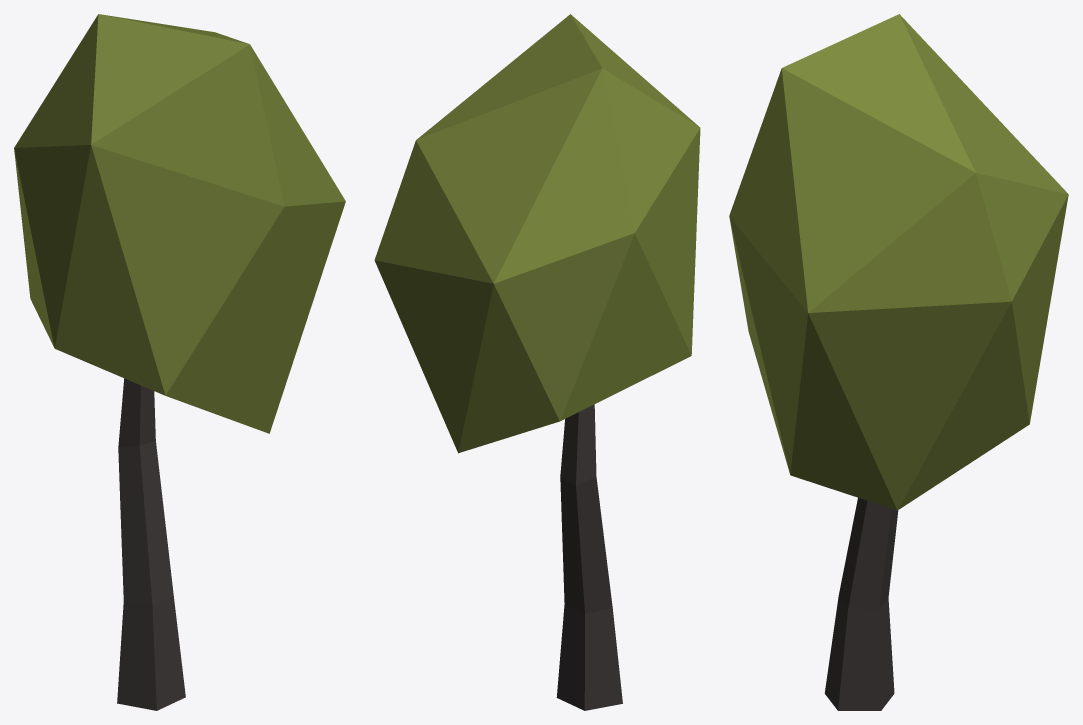
The model's file is TB_Env_RTree_Small_C.FBX.
The picture shows the model from 3 angles, left to right: view 1: azimuth 30°, elevation 25°; view 2: azimuth 150°, elevation 25°; view 3: azimuth 270°, elevation 25°; orthographic projection. The views are drawn at different scales.
Parts seen in each view (by area): view 1: TB_Env_RTree_Small_C; view 2: TB_Env_RTree_Small_C; view 3: TB_Env_RTree_Small_C.
Boxes of the visible parts, bbox=[...] form: TB_Env_RTree_Small_C: bbox=[14, 14, 345, 710]; TB_Env_RTree_Small_C: bbox=[374, 14, 700, 710]; TB_Env_RTree_Small_C: bbox=[729, 14, 1068, 710].
Bounding box in the file's own units: 2.03 × 4.85 × 2.23.
